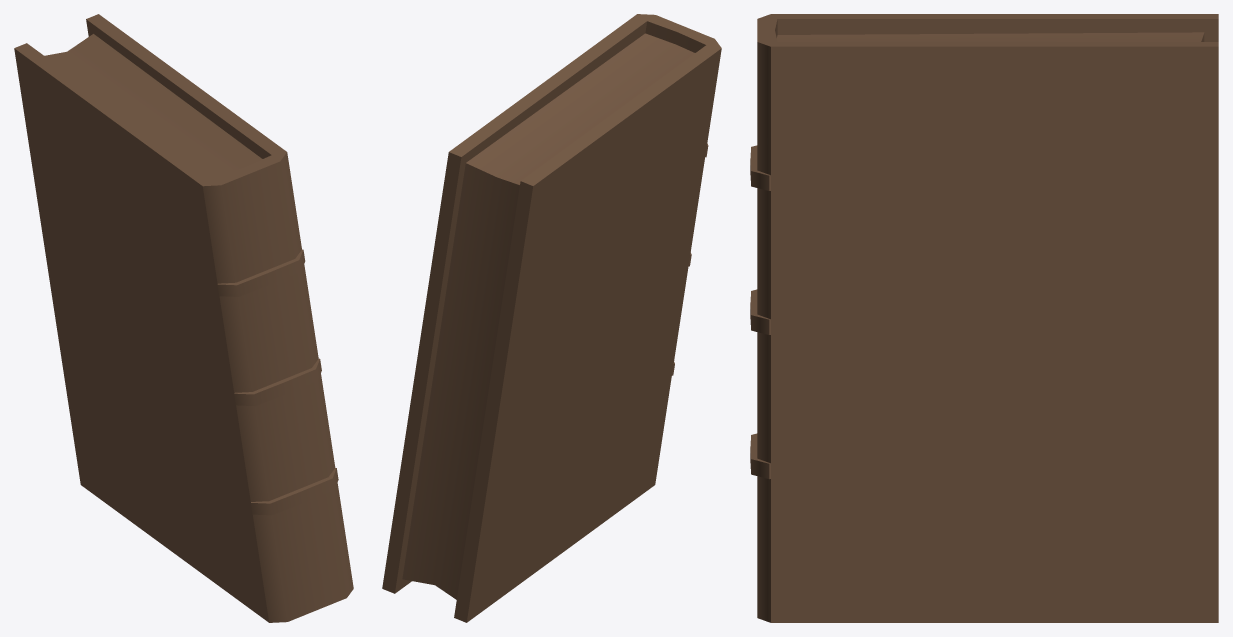
Rendered from sem_boek.fbx.
3 views of the same model, side by side, from view 1: azimuth 30°, elevation 25°; view 2: azimuth 150°, elevation 25°; view 3: azimuth 270°, elevation 25° (orthographic). The views are drawn at different scales.
Visible parts, largest first — view 1: polySurface4; view 2: polySurface4; view 3: polySurface4.
Boxes of the visible parts, <box> form: polySurface4: <box>14,14,353,622</box>; polySurface4: <box>382,14,721,622</box>; polySurface4: <box>750,14,1218,622</box>.
Size of the model in its own units: 0.3876 by 1.14 by 0.8761.
